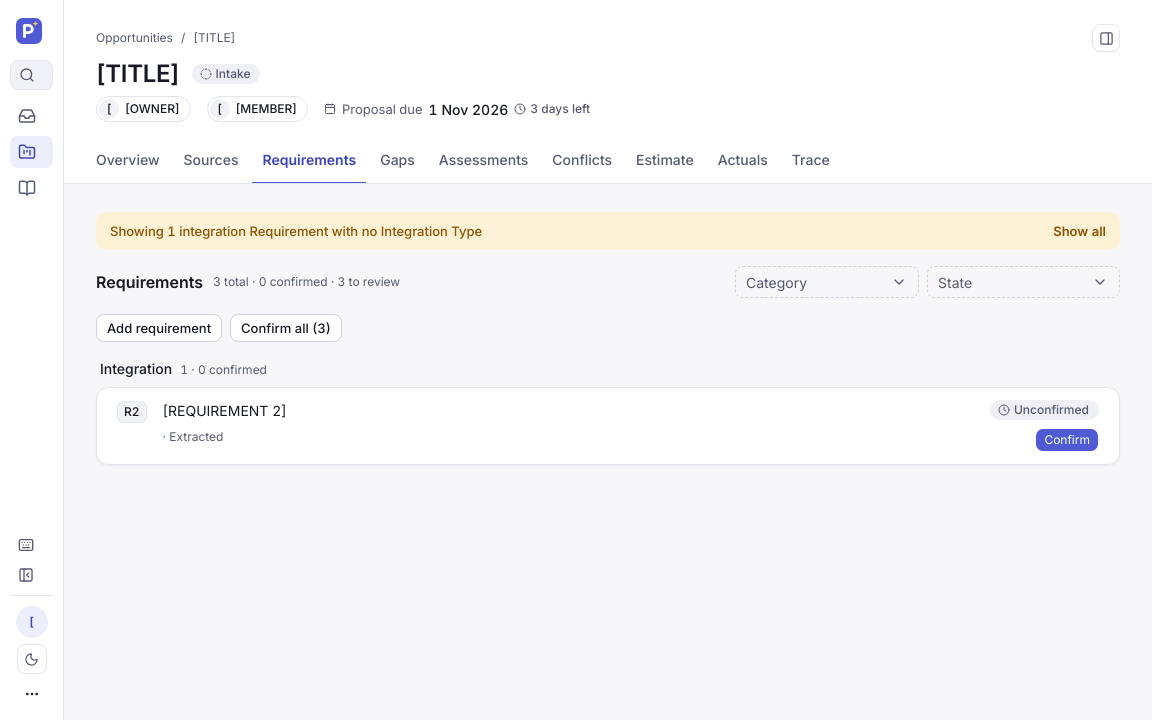
/opportunities/[id] workspace › tab URL /requirements?untagged=integration: untagged rows and the type picker
The image size is (1152, 720).
Expected: the message with test id "untagged-filter" shows "Showing 1 integration Requirement with no Integration Type", [110, 223, 482, 239]
Step 1. Click the button "[REQUIREMENT 2]" → [225, 411], box [163, 400, 974, 421]
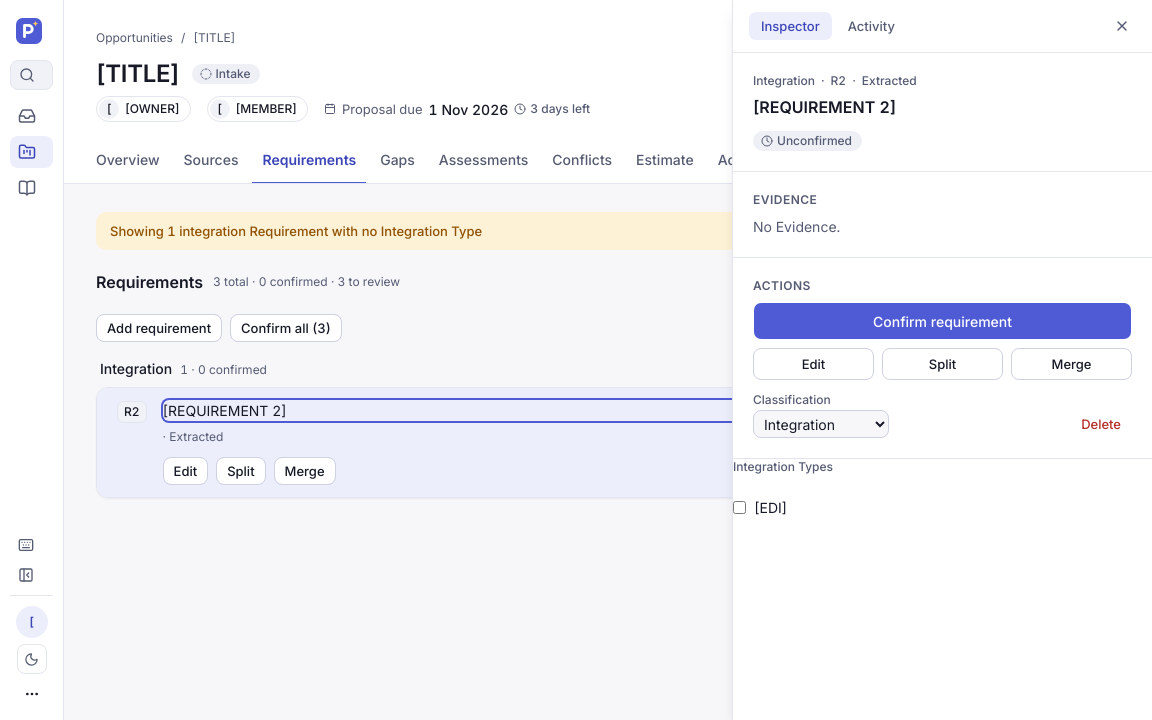
Expected: the checkbox labelled "[EDI]" is shown, [733, 501, 746, 514]
